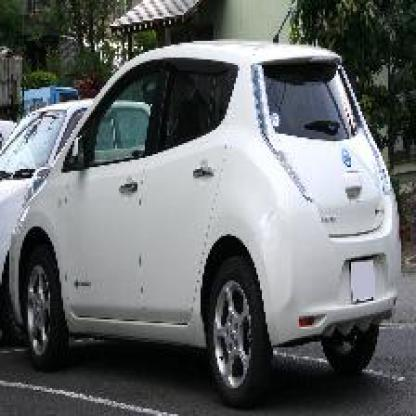not_emergency: (15, 46, 403, 370)
